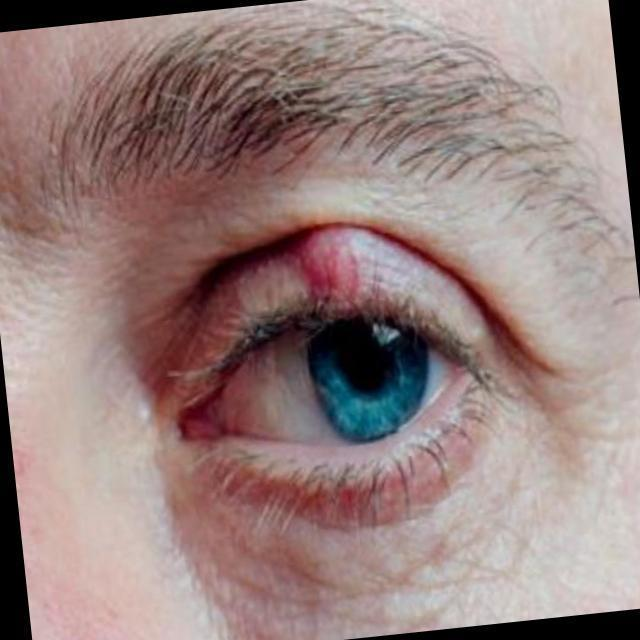Stye: (268, 187, 440, 366)
